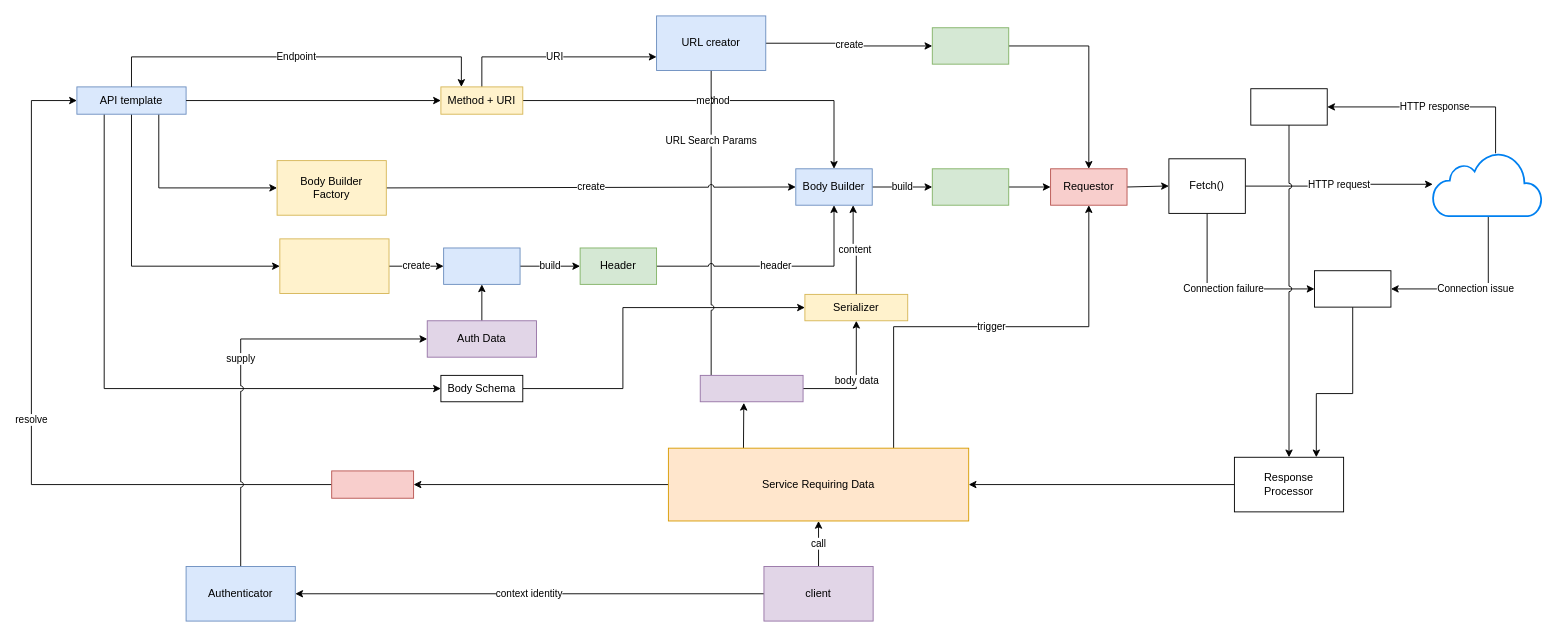
Some shapes in this 1559 by 637 pixel diagram are drawn without their labels. The centre of each missing label's shape, as x and y in pixels:
"API resolver" belongs at [372,484].
"Body" belongs at [970,186].
"Header Builder" belongs at [481,265].
"Header Builder Factory" belongs at [334,265].
"Input Data" belongs at [751,388].
"Rejects" belongs at [1352,288].
"Resolves" belongs at [1288,106].
"url" belongs at [970,45].
